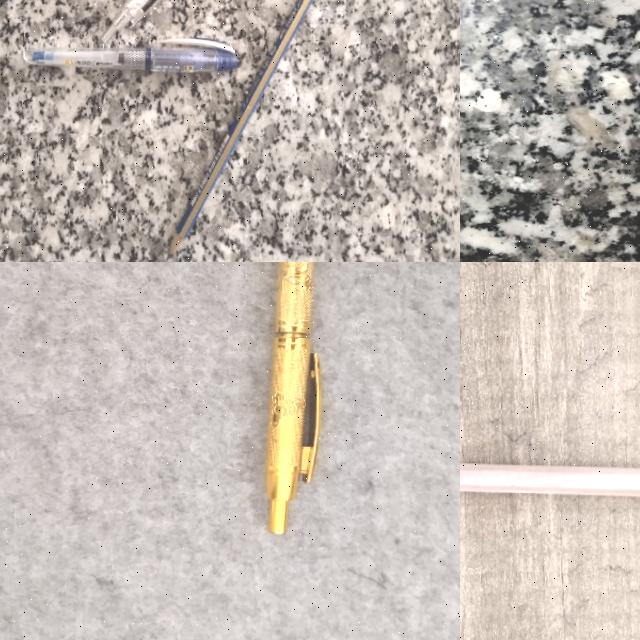pen: (21, 34, 240, 74)
pencil: (173, 0, 332, 253), (460, 464, 639, 496)
signature pen: (265, 262, 319, 532), (101, 0, 156, 42)
